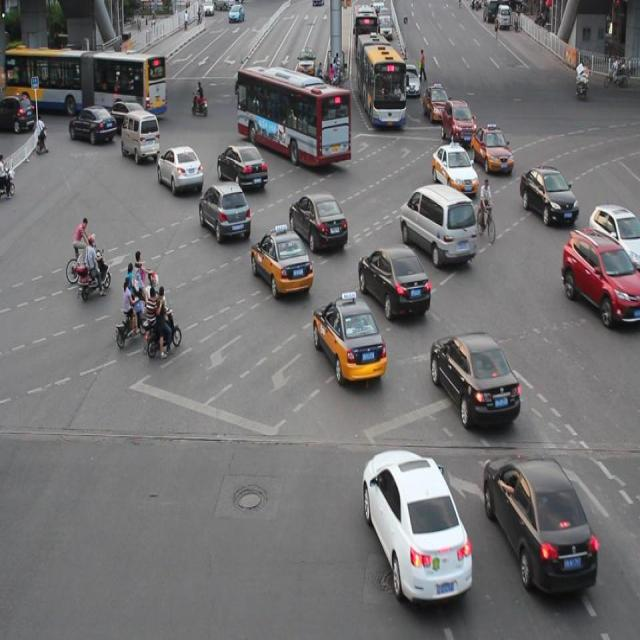car: (361, 448, 471, 600), (481, 451, 596, 591), (428, 329, 520, 426), (560, 226, 640, 326), (312, 293, 386, 382), (356, 242, 431, 318), (250, 226, 313, 297), (586, 201, 640, 271), (288, 191, 348, 253), (518, 164, 577, 225), (198, 180, 250, 241), (215, 140, 268, 190), (431, 142, 478, 197), (156, 144, 204, 194), (470, 125, 512, 175), (70, 106, 117, 145), (104, 100, 146, 135), (442, 99, 474, 144)
truck: (398, 183, 476, 266), (120, 108, 161, 160)
van: (236, 66, 349, 166)
